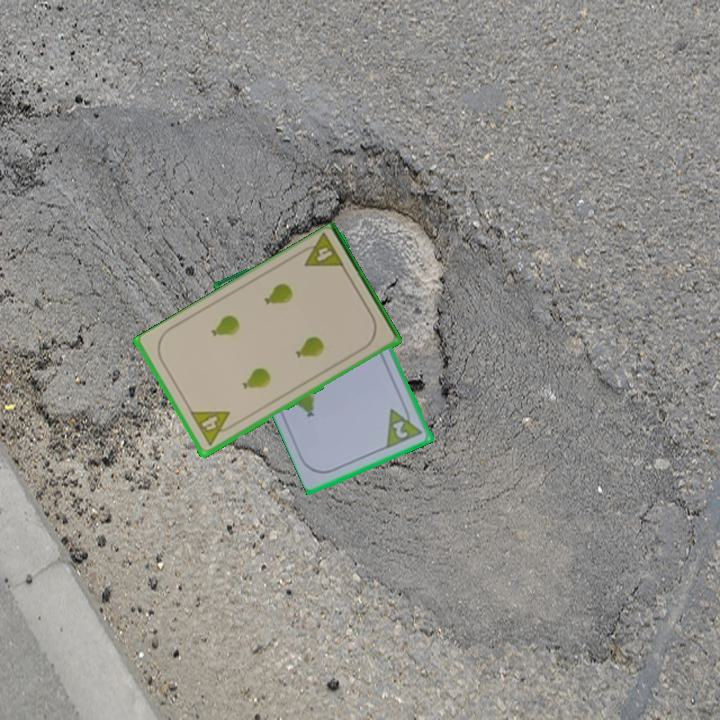2p: (389, 417, 411, 442)
4p: (294, 231, 347, 272), (187, 407, 238, 449)
